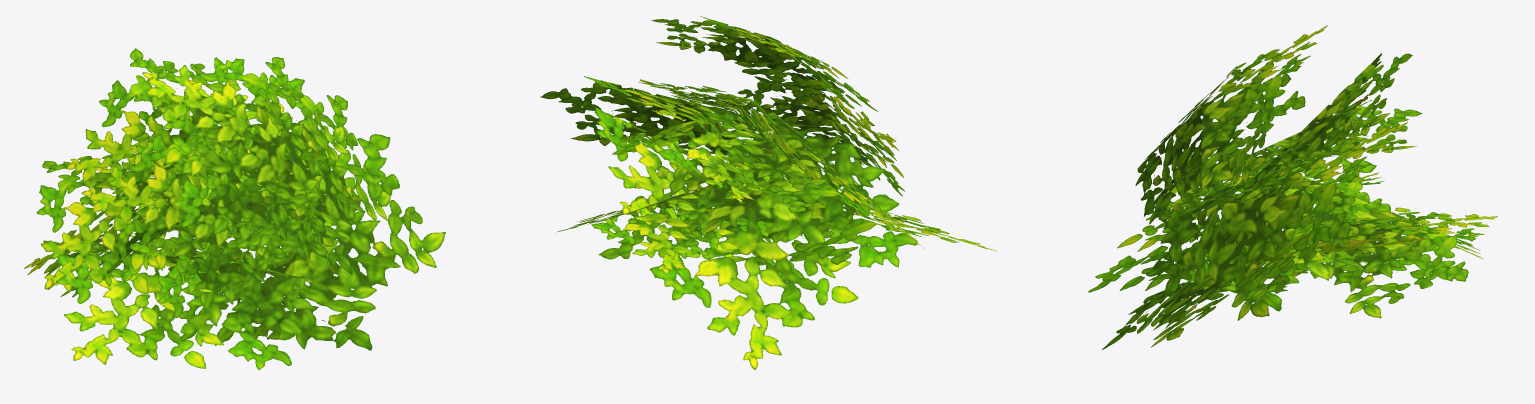
The model's file is cao02.FBX.
3 views of the same model, side by side, from view 1: azimuth 30°, elevation 25°; view 2: azimuth 150°, elevation 25°; view 3: azimuth 270°, elevation 25° (orthographic). The views are drawn at different scales.
Visible parts, largest first — view 1: cao02; view 2: cao02; view 3: cao02.
Boxes of the visible parts, x1,y1,x2,y2 form: cao02: (24,48,445,370); cao02: (540,16,997,369); cao02: (1088,25,1497,349).
Size of the model in its own units: 92.44 by 54.89 by 76.46.
